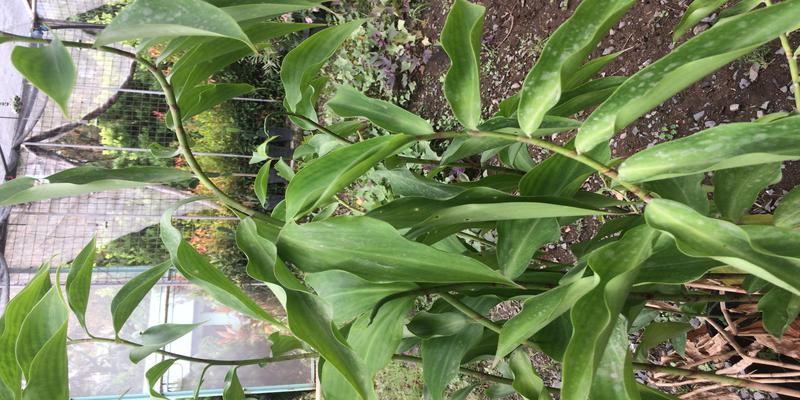Insulin: (180, 137, 782, 388)
